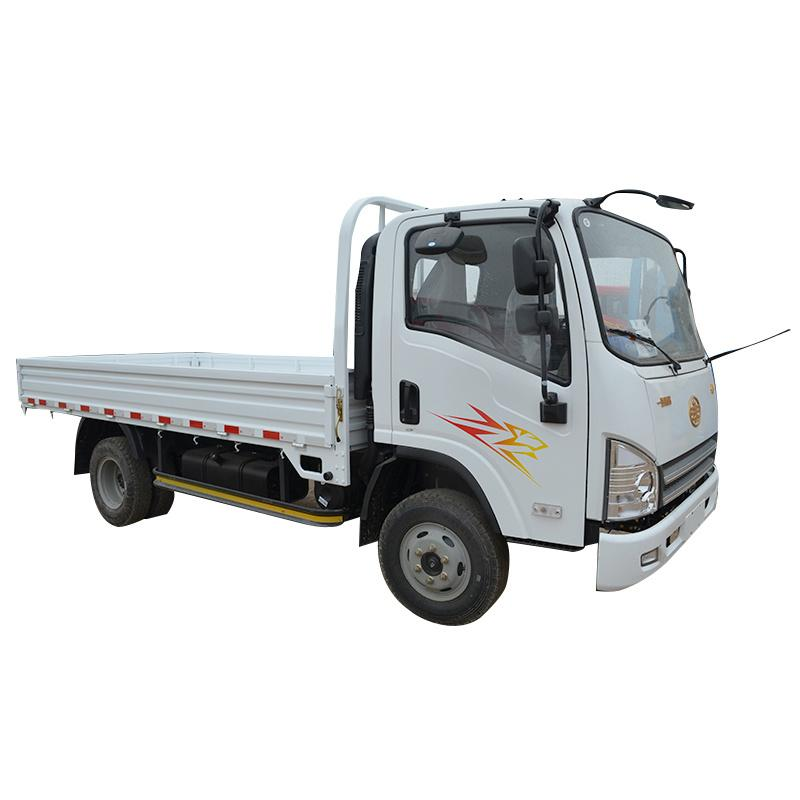truck: (16, 189, 720, 628)
